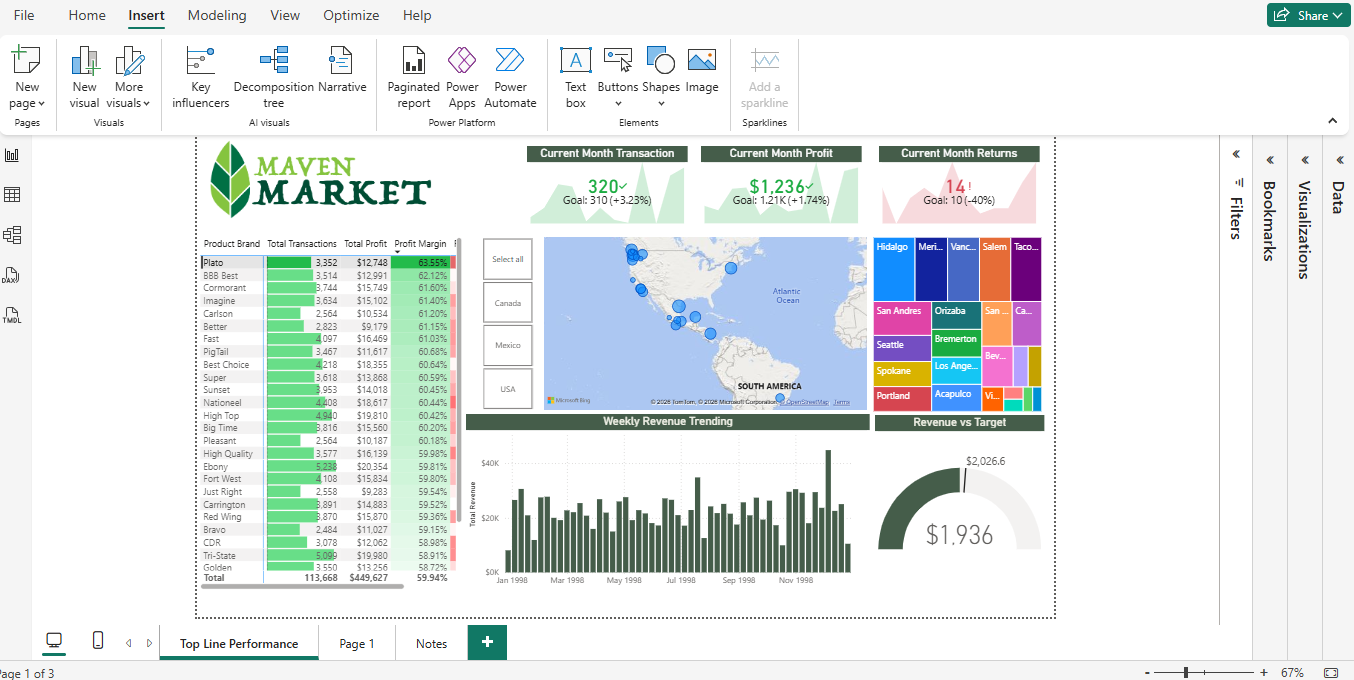

Layout of this report page (visuals, bound fields, positions):
{"tool":"powerbi","page":{"name":"Top Line Performance","canvas":[1280,720],"ordinal":0},"visuals":[{"type":"image","box":[10.5,0,346,132],"z":0},{"type":"pivotTable","fields":{"Values":["Transaction Data.Total Transactions","Transaction Data.Total Profit","Transaction Data.Profit Margin","Return_Data.Return Rate"],"Rows":["Products.product_brand"]},"box":[0,147.9,401,536],"z":1000},{"type":"kpi","title":"Current Month Transaction","fields":{"Indicator":["Transaction Data.Total Transactions"],"TrendLine":["Calendar.Start of Month"],"Goal":["Transaction Data.Last Month Transactions"]},"box":[492.9,16.4,240,121],"z":2000},{"type":"kpi","title":"Current Month Profit","fields":{"Indicator":["Transaction Data.Total Profit"],"TrendLine":["Calendar.Start of Month"],"Goal":["Transaction Data.Last Month Profit"]},"box":[752.5,16.8,240,120.9],"z":3000},{"type":"kpi","title":"Current Month Returns","fields":{"Indicator":["Return_Data.Total Returns"],"TrendLine":["Calendar.Start of Month"],"Goal":["Transaction Data.Last Month Returns"]},"box":[1018.8,16.4,240,121],"z":4000},{"type":"map","fields":{"Category":["Stores.store_city"],"Size":["Transaction Data.Total Transactions"]},"box":[513.3,148.3,491.7,268.3],"z":5000},{"type":"slicer","fields":{"Values":["Stores.store_country"]},"box":[401.7,148.3,123.3,268.3],"z":6000},{"type":"treemap","fields":{"Values":["Transaction Data.Total Transactions"],"Group":["Stores.store_country","Stores.store_state","Stores.store_city"]},"box":[1005,148.3,261.7,270],"z":7000},{"type":"columnChart","title":"Weekly Revenue Trending","fields":{"Y":["Transaction Data.Total Revenue"],"Category":["Calendar.Start of Week"]},"box":[401.7,416.7,603.3,266.7],"z":8000},{"type":"gauge","title":" Revenue vs Target","fields":{"Y":["Transaction Data.Total Revenue"],"TargetValue":["Transaction Data.Revenue Target"]},"box":[1013.3,418.3,253.3,230],"z":9000}]}

Visuals, with their boxes on the page's 1280x720 design canvas (x1, y1, x2, y2). These are canvas units, not pixel positions in the 1354x680 screenshot, which may show the page scaled, cropped or inside an application window:
image: 10, 0, 356, 132
pivotTable - Transaction Data.Total Transactions x Transaction Data.Total Profit: 0, 148, 401, 684
"Current Month Transaction" kpi: 493, 16, 733, 137
"Current Month Profit" kpi: 752, 17, 992, 138
"Current Month Returns" kpi: 1019, 16, 1259, 137
map - Stores.store_city x Transaction Data.Total Transactions: 513, 148, 1005, 417
slicer - Stores.store_country: 402, 148, 525, 417
treemap - Transaction Data.Total Transactions x Stores.store_country: 1005, 148, 1267, 418
"Weekly Revenue Trending" columnChart: 402, 417, 1005, 683
" Revenue vs Target" gauge: 1013, 418, 1267, 648
